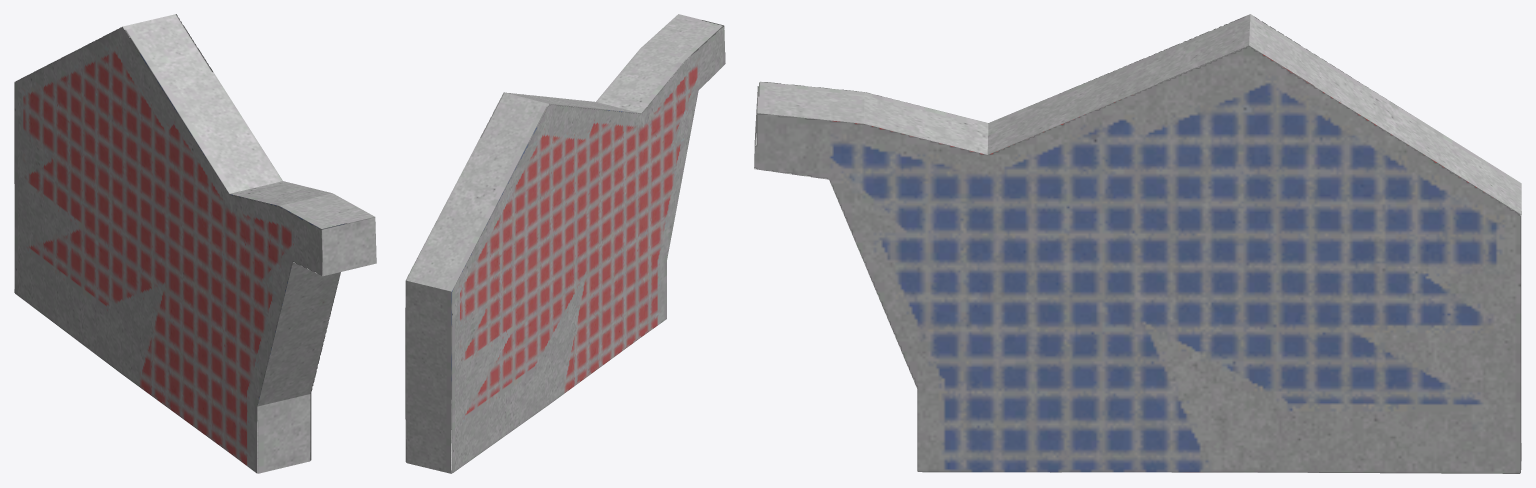
Rendered from DragonTailRight.fbx.
3 renders of one model, left to right at view 1: azimuth 30°, elevation 25°; view 2: azimuth 150°, elevation 25°; view 3: azimuth 270°, elevation 25°, orthographic. The views are drawn at different scales.
Parts seen in each view (by area): view 1: tail_01; view 2: tail_01; view 3: tail_01.
Boxes of the visible parts, <box> form: tail_01: <box>14,14,376,473</box>; tail_01: <box>405,14,725,473</box>; tail_01: <box>754,14,1521,473</box>.
Bounding box in the file's own units: 98.24 × 567 × 924.
